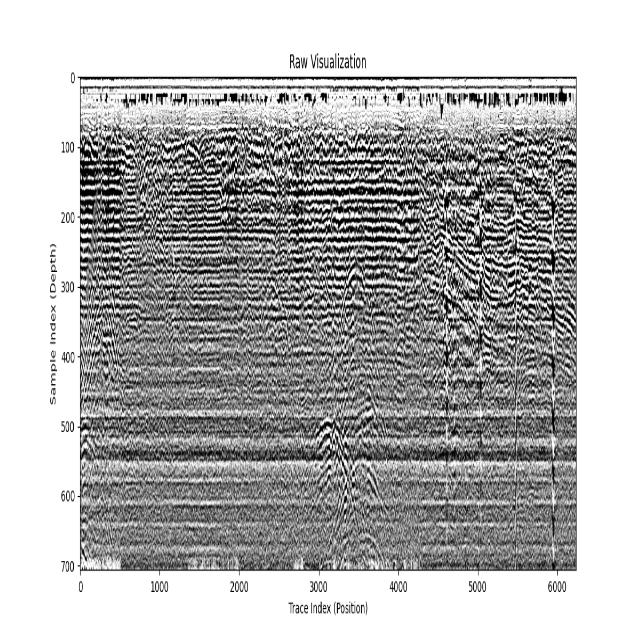anomaly: (82, 221, 124, 572), (302, 418, 391, 571), (334, 249, 384, 384), (471, 178, 489, 514), (510, 175, 523, 552), (441, 170, 452, 562), (548, 183, 558, 571), (261, 279, 294, 371)
